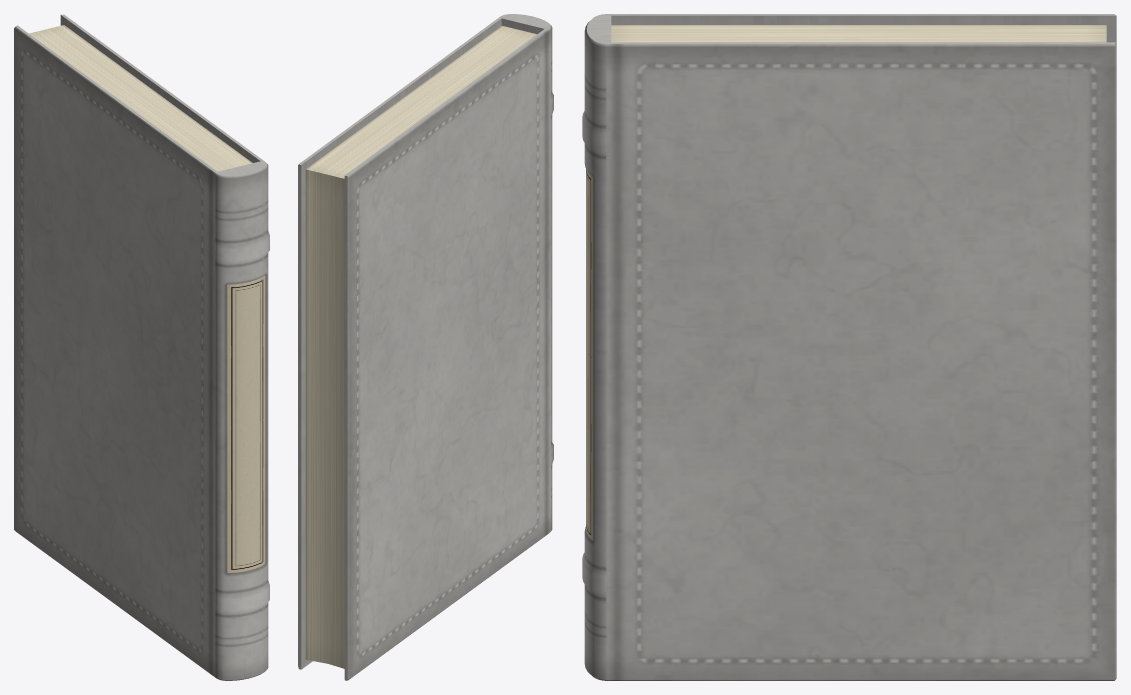
The model's file is book_spine.glb.
3 views of the same model, side by side, from view 1: azimuth 30°, elevation 25°; view 2: azimuth 150°, elevation 25°; view 3: azimuth 270°, elevation 25° (orthographic). The views are drawn at different scales.
Parts seen in each view (by area): view 1: spine_cover, spine_label, spine_pages; view 2: spine_cover, spine_pages; view 3: spine_cover, spine_pages, spine_label.
Boxes of the visible parts, box(x1,y1,x2,y2) form: spine_cover: box(14, 14, 269, 680); spine_label: box(227, 275, 265, 572); spine_pages: box(29, 25, 252, 171); spine_cover: box(298, 14, 553, 680); spine_pages: box(305, 26, 536, 668); spine_cover: box(582, 14, 1116, 680); spine_pages: box(611, 25, 1106, 42); spine_label: box(586, 169, 593, 540).
Bounding box in the file's own units: 0.4502 × 4.2 × 3.19.
Materials: 3 (3 with a texture image).
